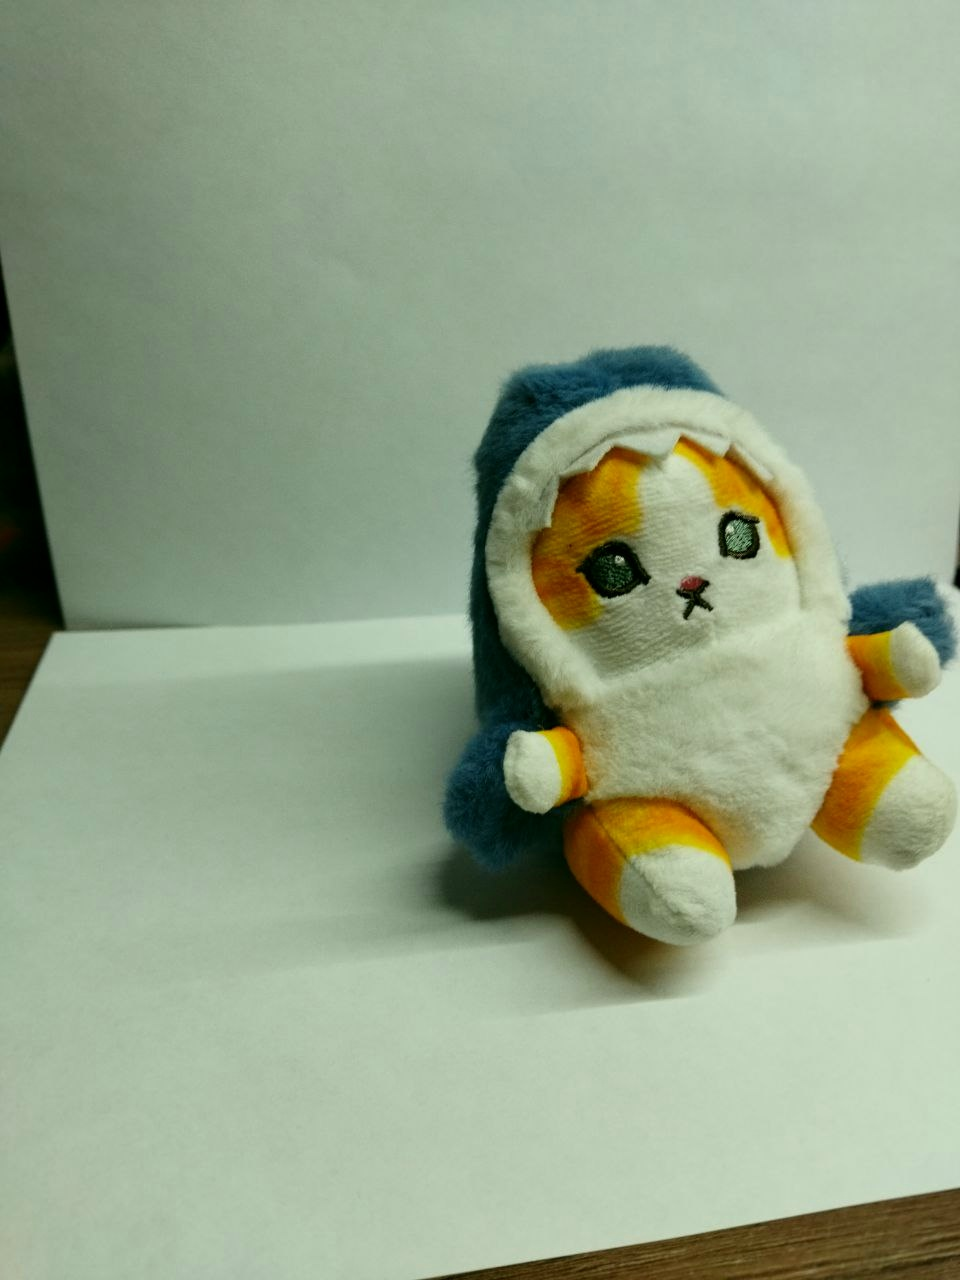Snark Cat: (449, 344, 960, 952)
